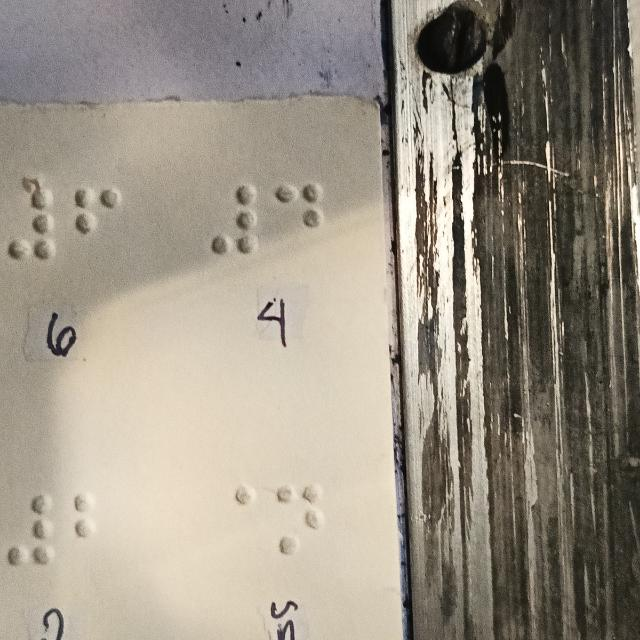digit_2: (72, 490, 124, 568)
digit_4: (271, 180, 323, 258)
digit_6: (72, 185, 124, 263)
dot_4: (207, 481, 259, 559)
letter_n: (274, 481, 325, 559)
number_sign: (5, 491, 57, 569), (4, 185, 56, 262), (209, 181, 261, 258)
